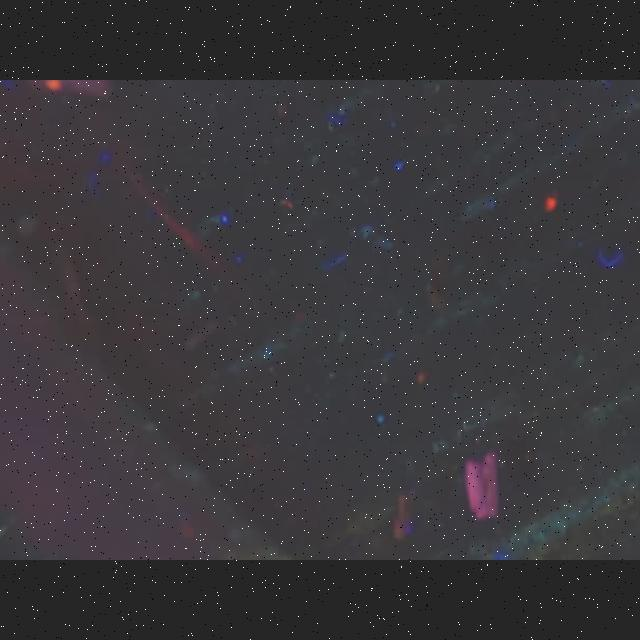Fragment: (466, 453, 499, 520)
